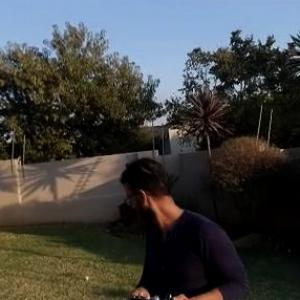follow: (116, 151, 254, 299)
